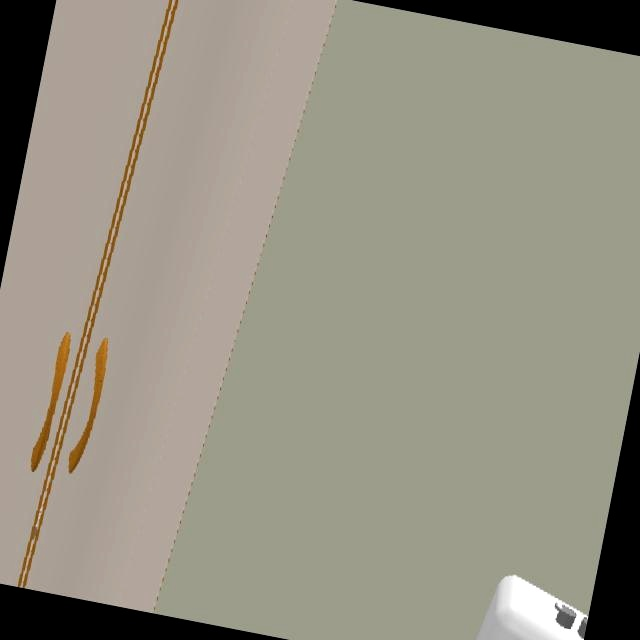toilet: (475, 575, 588, 640)
